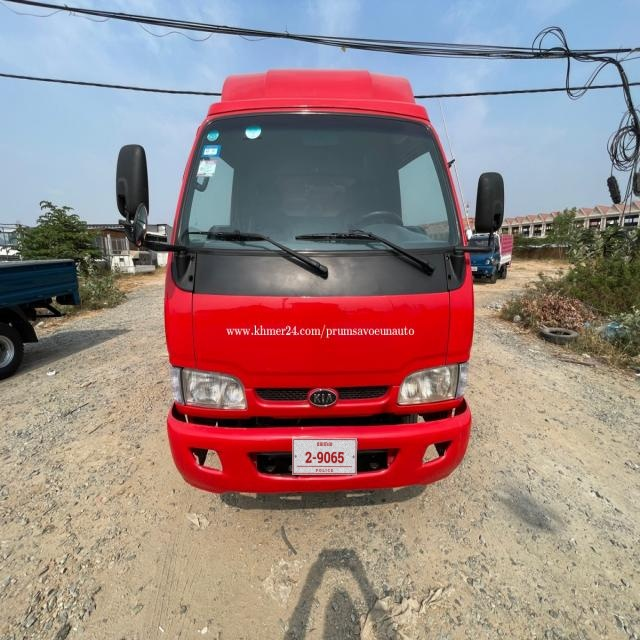Plate Number: (293, 438, 357, 475)
